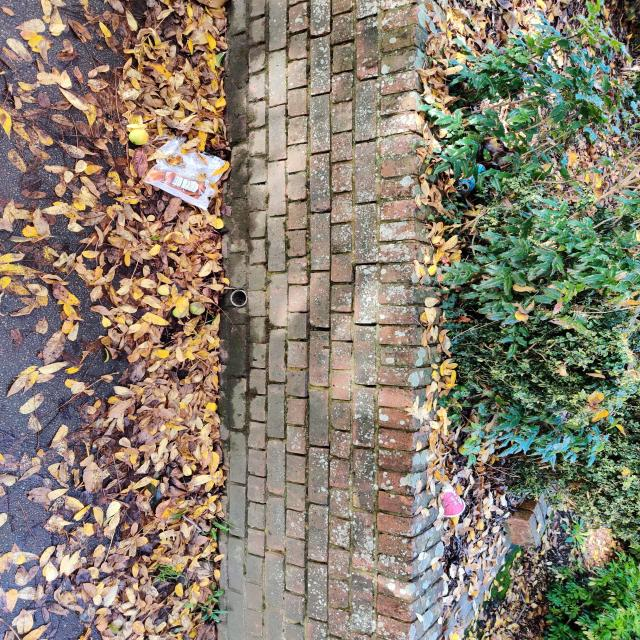litter: (141, 134, 243, 221)
